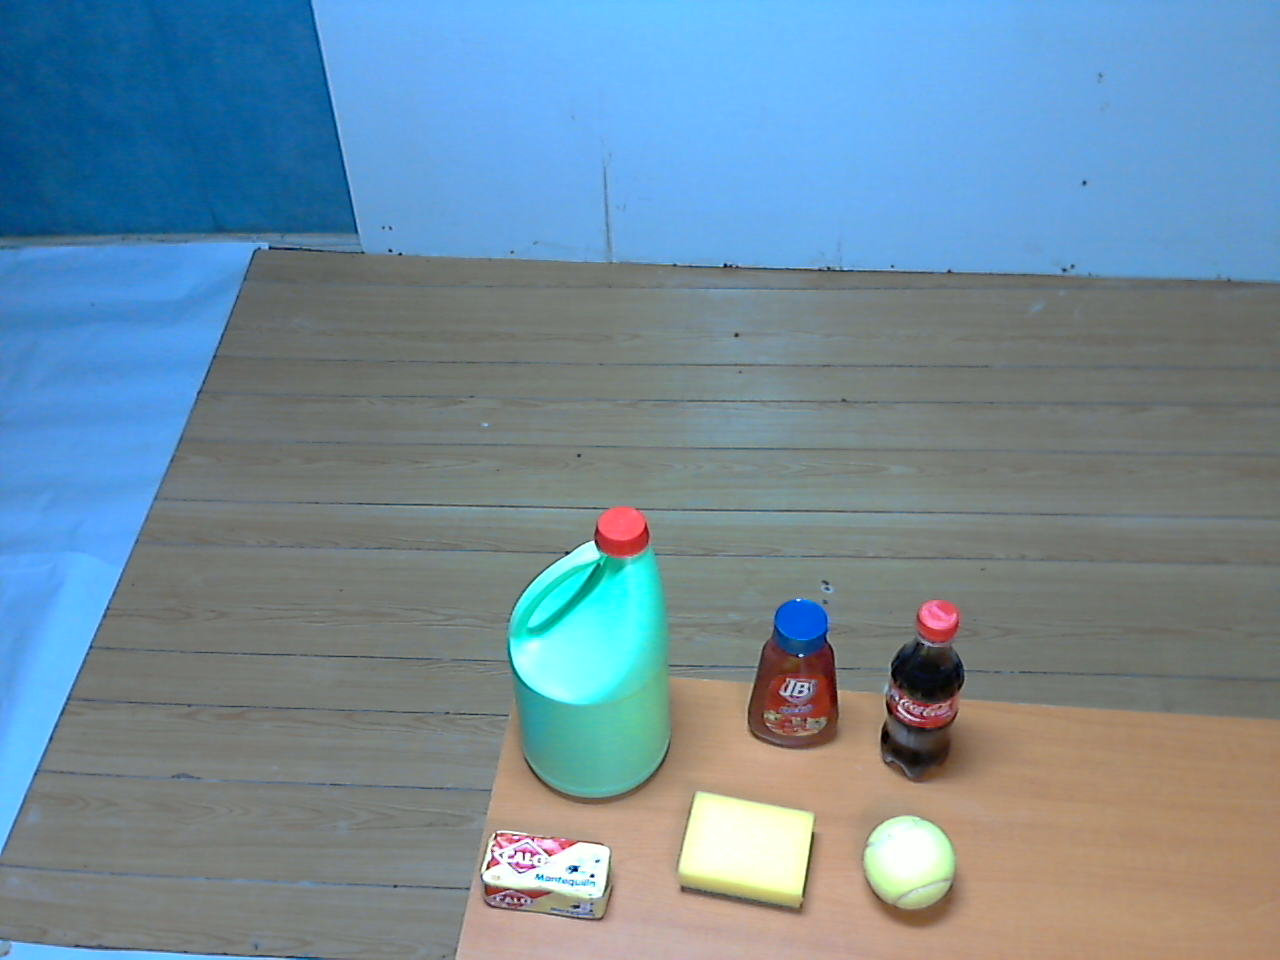cloroplano: (501, 506, 686, 816)
coca: (876, 595, 974, 788)
esponja: (669, 784, 823, 922)
ketchup: (745, 592, 845, 753)
mantequilla: (474, 820, 621, 932)
pelota: (857, 811, 967, 922)
